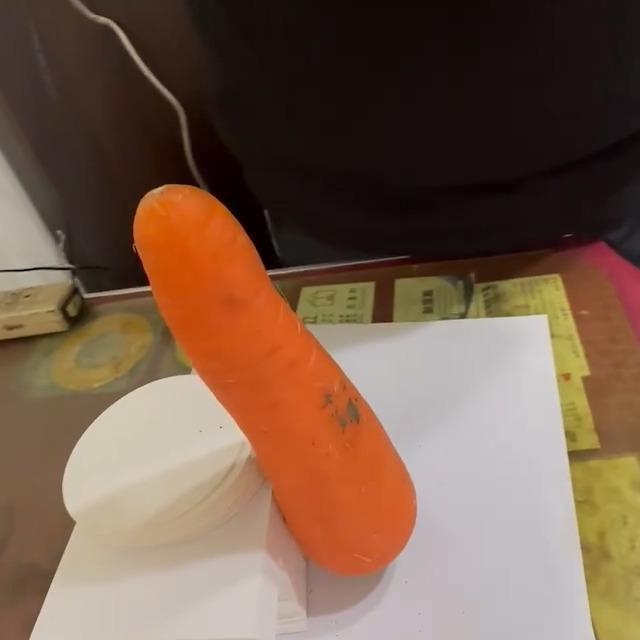carrot: (132, 181, 421, 585)
